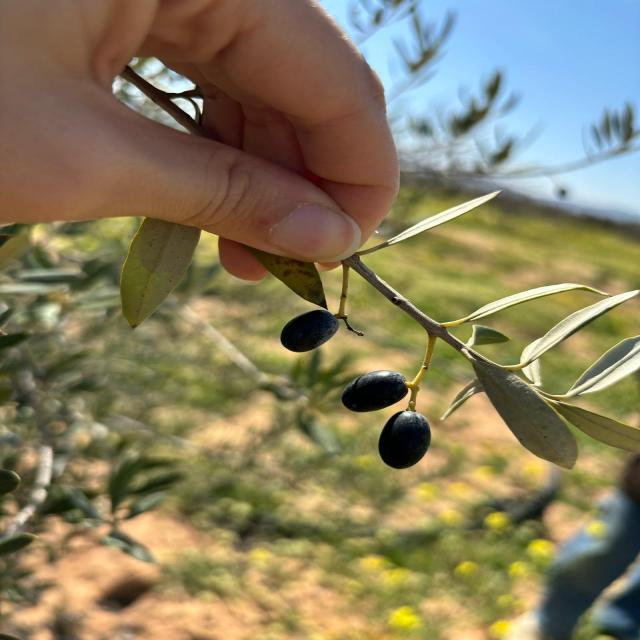Healthy: (470, 354, 578, 468), (378, 399, 431, 469), (341, 371, 409, 412), (280, 310, 339, 352)
